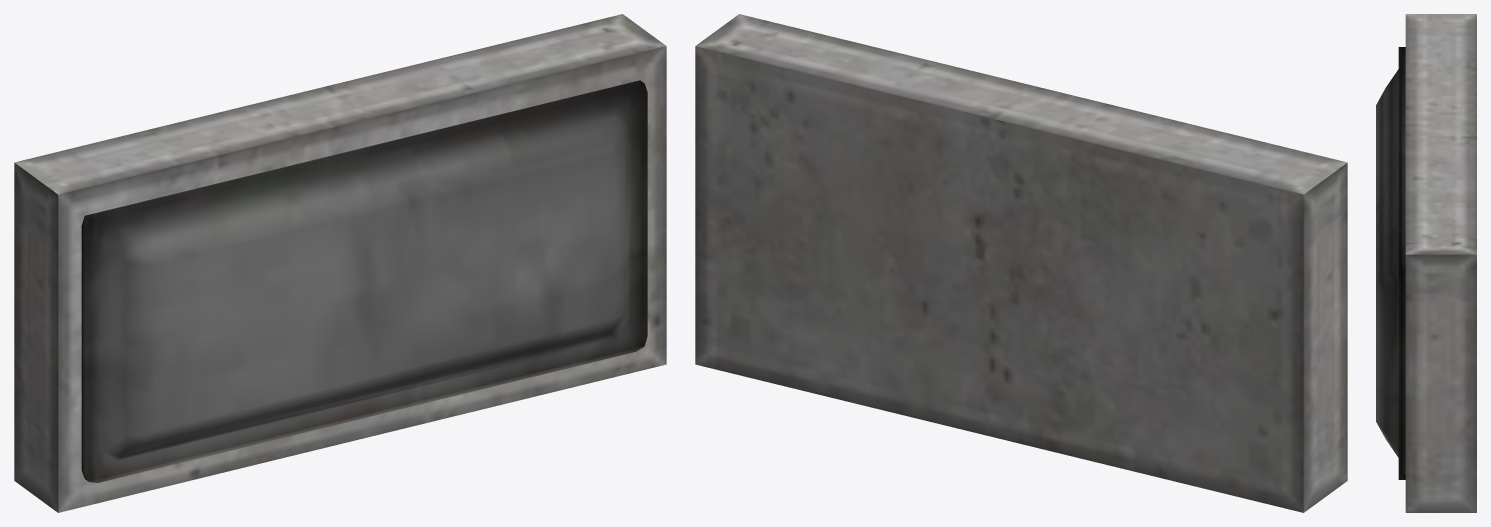
The model's file is backlit_sign_office_red.glb.
3 views of the same model, side by side, from view 1: azimuth 30°, elevation 25°; view 2: azimuth 150°, elevation 25°; view 3: azimuth 270°, elevation 25° (orthographic). The views are drawn at different scales.
Parts seen in each view (by area): view 1: backlit_sign_office_LOD0; view 2: backlit_sign_office_LOD0; view 3: backlit_sign_office_LOD0.
Boxes of the visible parts, x1,y1,x2,y2 form: backlit_sign_office_LOD0: [14, 14, 666, 512]; backlit_sign_office_LOD0: [695, 14, 1347, 512]; backlit_sign_office_LOD0: [1376, 14, 1476, 512].
Size of the model in its own units: 0.5 by 0.25 by 0.0886.
Materials: 1 (1 with a texture image).
